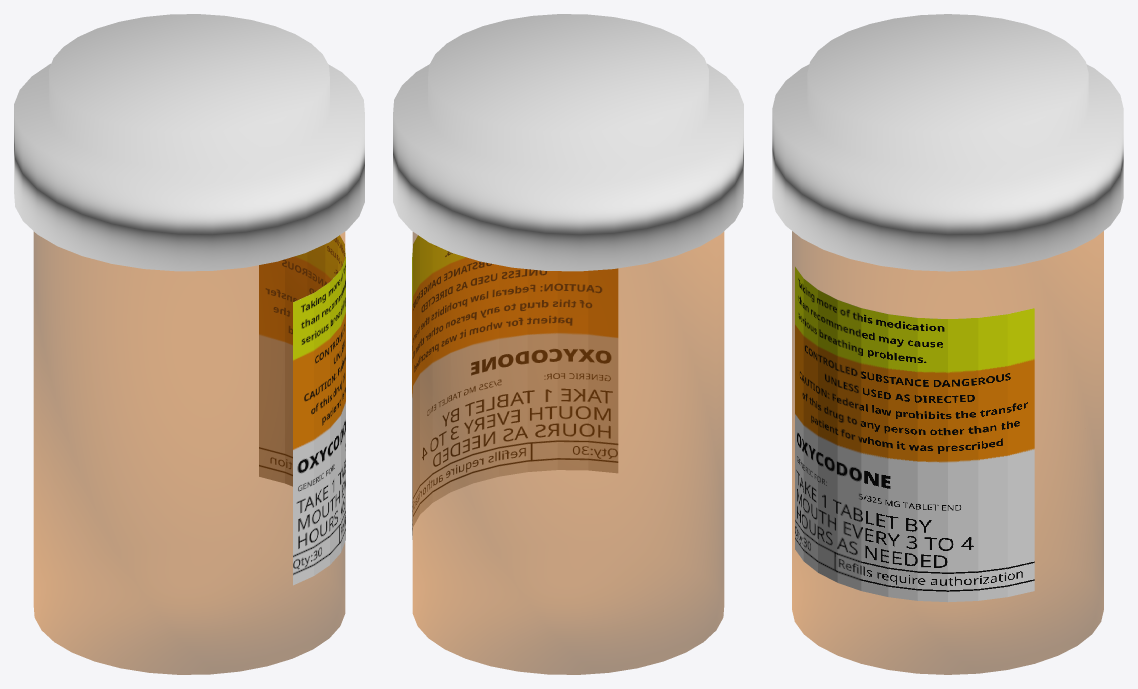
Rendered from oxycodone.glb.
The picture shows the model from 3 angles, left to right: view 1: azimuth 30°, elevation 25°; view 2: azimuth 150°, elevation 25°; view 3: azimuth 270°, elevation 25°; orthographic projection.
Visible parts, largest first — view 1: Cylinder, Cylinder.001, Cylinder.002; view 2: Cylinder, Cylinder.001, Cylinder.002; view 3: Cylinder.001, Cylinder.002, Cylinder.
Part boxes in pixels (box(x1,y1,x2,y2)): Cylinder: box(33, 232, 345, 674); Cylinder.001: box(14, 14, 364, 271); Cylinder.002: box(259, 235, 345, 585); Cylinder: box(412, 232, 724, 674); Cylinder.001: box(393, 14, 743, 271); Cylinder.002: box(412, 235, 618, 539); Cylinder.001: box(772, 14, 1123, 271); Cylinder.002: box(795, 266, 1034, 602); Cylinder: box(792, 231, 1103, 674).
Bounding box in the file's own units: 2.25 × 3.78 × 2.25.
2 materials, 1 textured.
